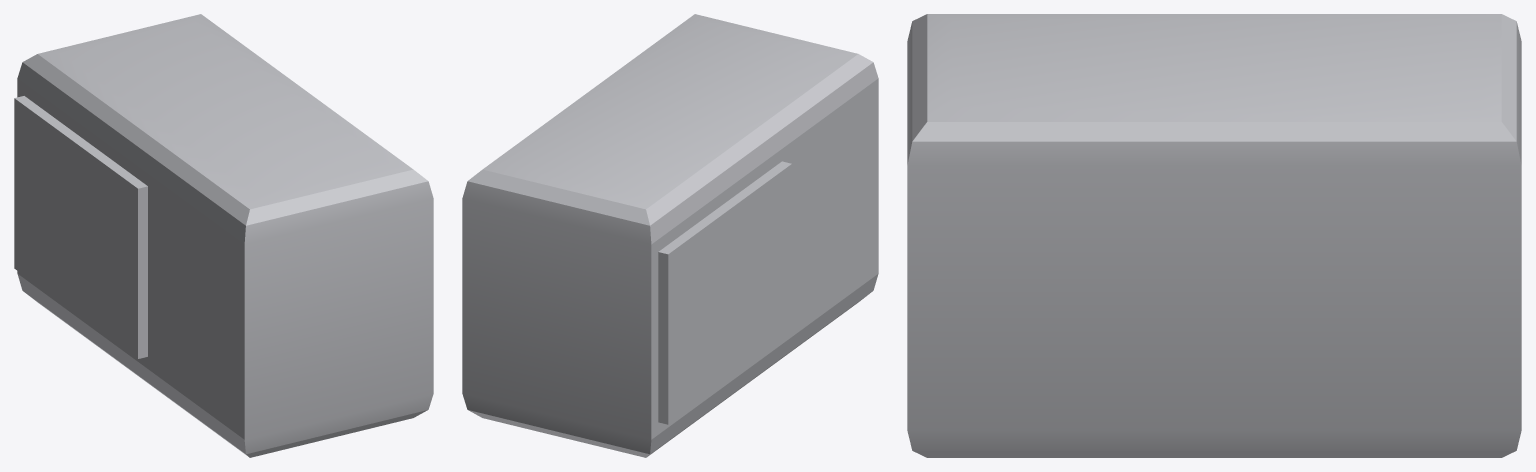
Rendered from m_uhh.FBX.
The picture shows the model from 3 angles, left to right: view 1: azimuth 30°, elevation 25°; view 2: azimuth 150°, elevation 25°; view 3: azimuth 270°, elevation 25°; orthographic projection. The views are drawn at different scales.
Parts seen in each view (by area): view 1: uhh; view 2: uhh; view 3: uhh.
Part boxes in pixels (bbox=[...]): uhh: bbox=[14, 14, 433, 457]; uhh: bbox=[462, 14, 878, 457]; uhh: bbox=[907, 14, 1521, 457].
Size of the model in its own units: 20.62 by 25.27 by 40.78.
